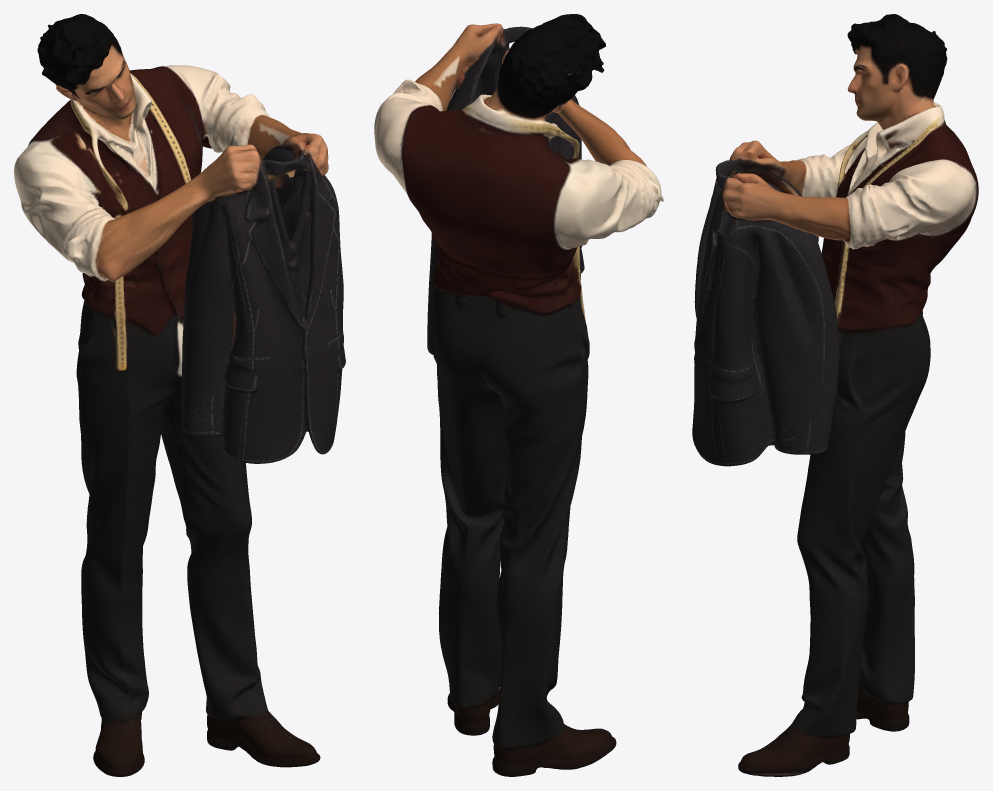
The model's file is tailor_pose2.glb.
The picture shows the model from 3 angles, left to right: view 1: azimuth 30°, elevation 25°; view 2: azimuth 150°, elevation 25°; view 3: azimuth 270°, elevation 25°; orthographic projection. The views are drawn at different scales.
Bounding box in the file's own units: 0.6396 × 1.9 × 0.7189.
1 material, 1 textured.
